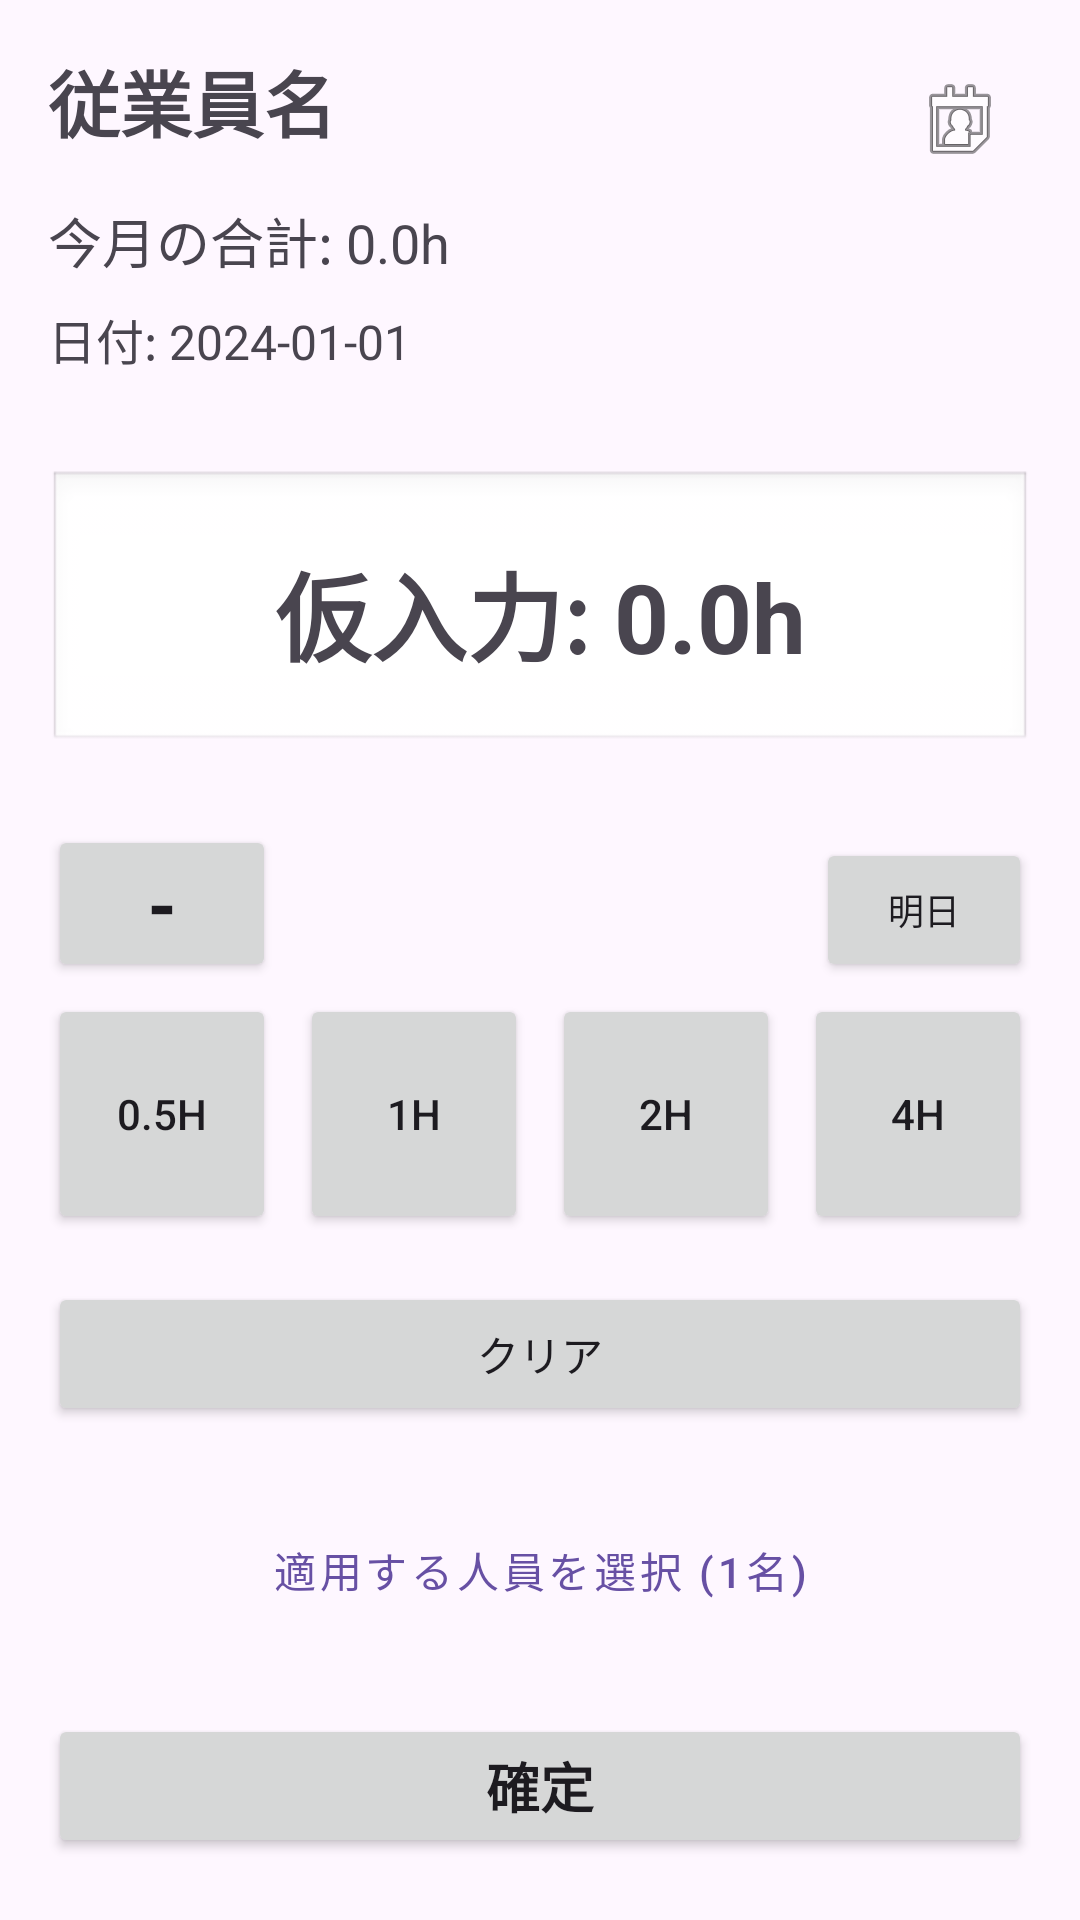

Point at icon controls on the screen. Image size 1080px×1920px, points as (x=x, y=y).
カレンダー: (x=960, y=119)
